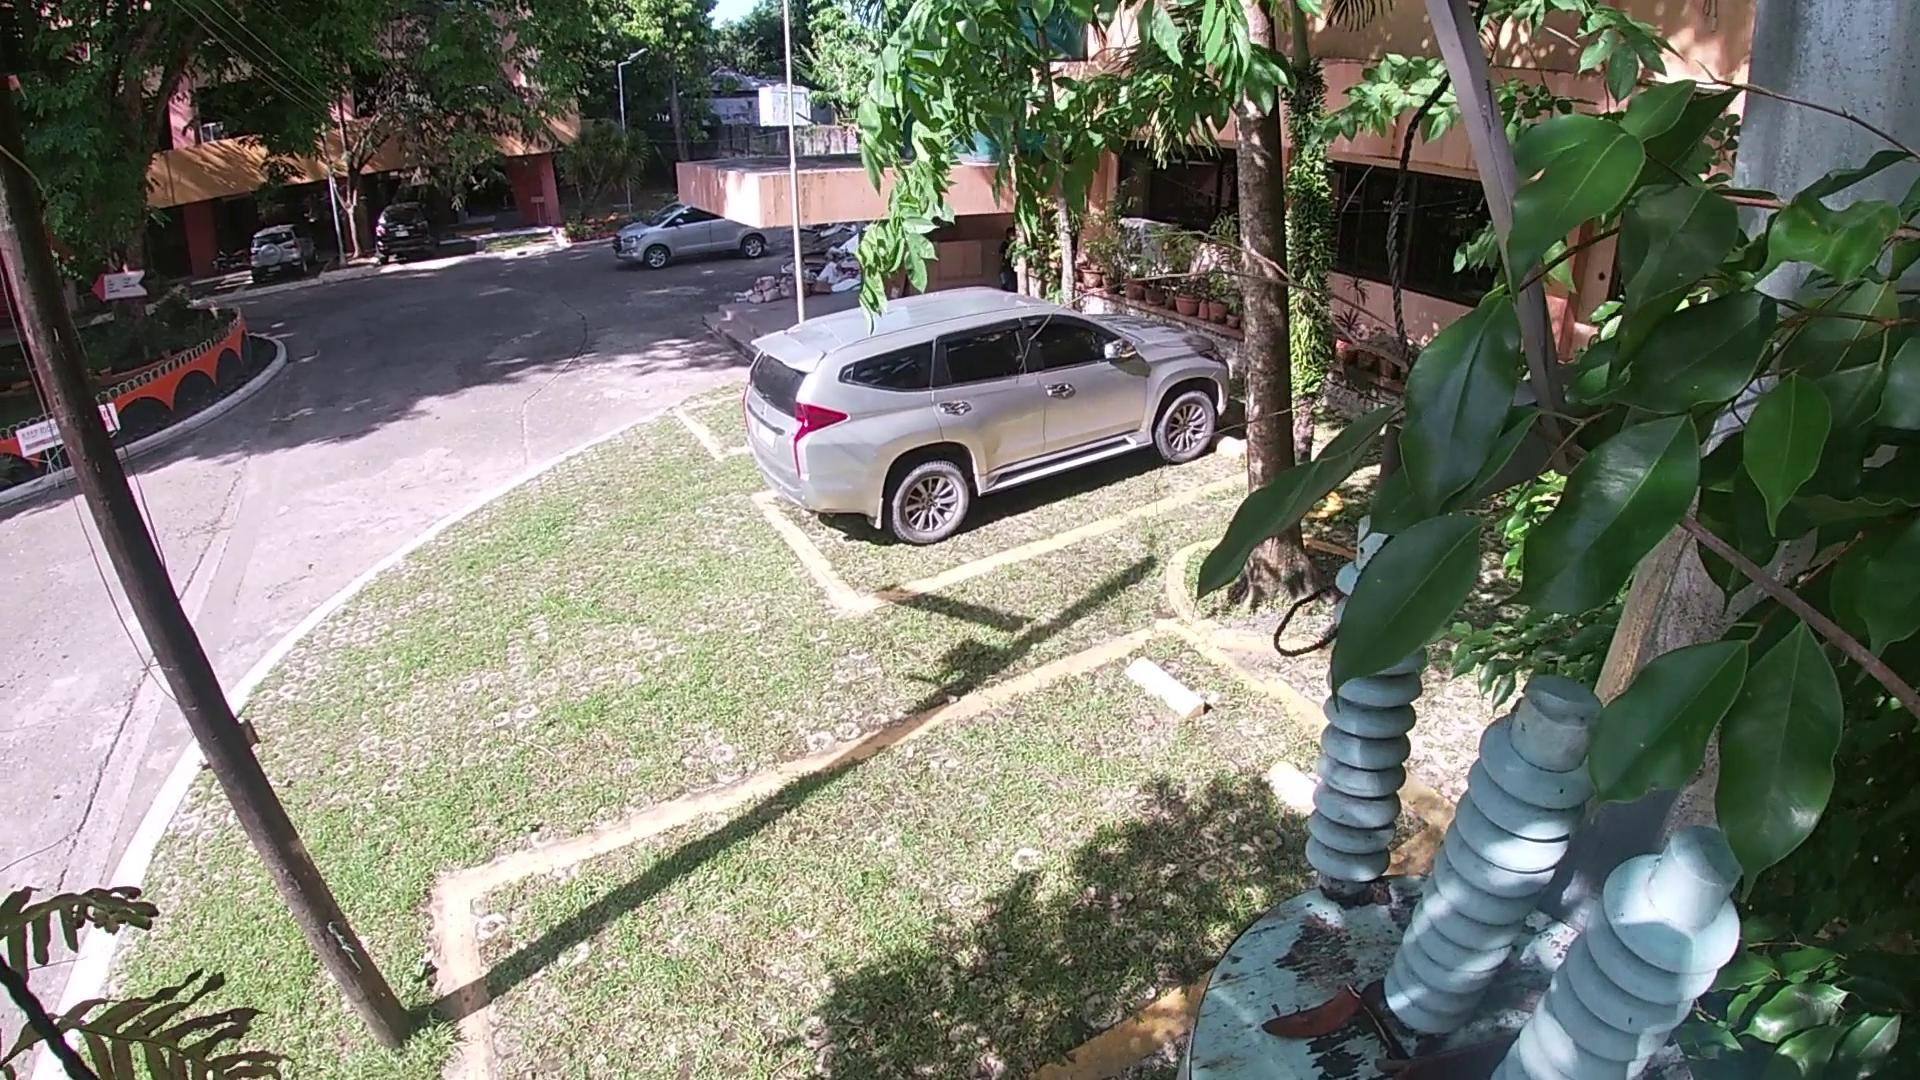mahogany fruit: (1255, 986, 1356, 1044), (1375, 1036, 1523, 1073)
tree branch: (1036, 225, 1917, 727), (1461, 990, 1557, 1022)
